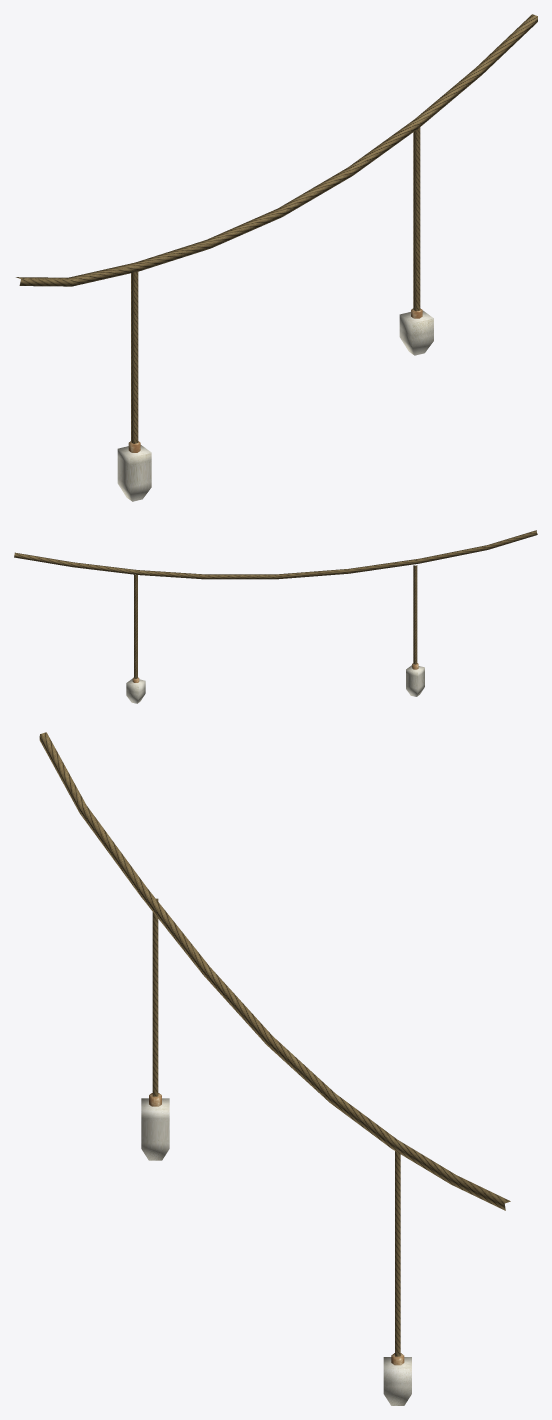
The model's file is fishing_buoy2.glb.
The picture shows the model from 3 angles, top to bottom: view 1: azimuth 30°, elevation 25°; view 2: azimuth 150°, elevation 25°; view 3: azimuth 270°, elevation 25°; orthographic projection. The views are drawn at different scales.
Visible parts, largest first — view 1: natural_rope.jpg__, lighthouseWall_diff.png__; view 2: natural_rope.jpg__, lighthouseWall_diff.png__; view 3: natural_rope.jpg__, lighthouseWall_diff.png__.
Boxes of the visible parts, left/top/right/bottom form: natural_rope.jpg__: left=16, top=14, right=537, bottom=443; lighthouseWall_diff.png__: left=117, top=310, right=433, bottom=501; natural_rope.jpg__: left=14, top=530, right=537, bottom=678; lighthouseWall_diff.png__: left=126, top=665, right=424, bottom=703; natural_rope.jpg__: left=39, top=732, right=510, bottom=1356; lighthouseWall_diff.png__: left=141, top=1098, right=411, bottom=1405.
Bounding box in the file's own units: 21.83 × 9.33 × 10.94.
3 materials, 3 textured.
